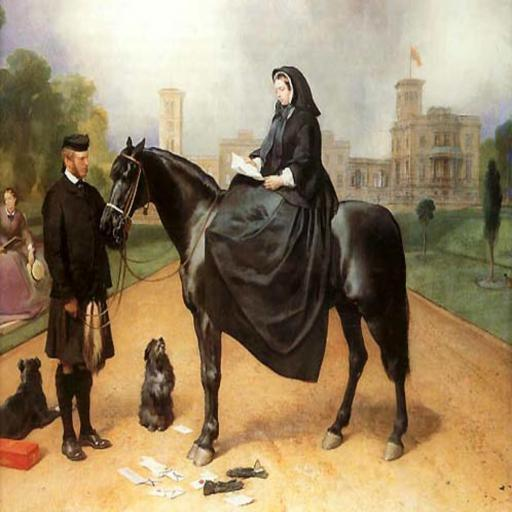Horse: (98, 133, 413, 462)
